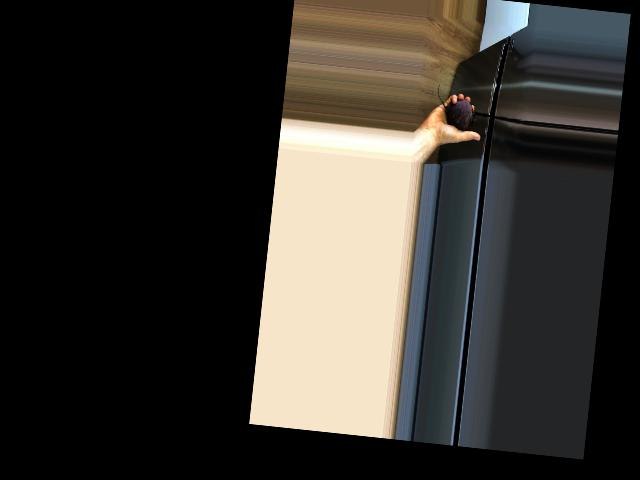beet: (433, 83, 478, 131)
